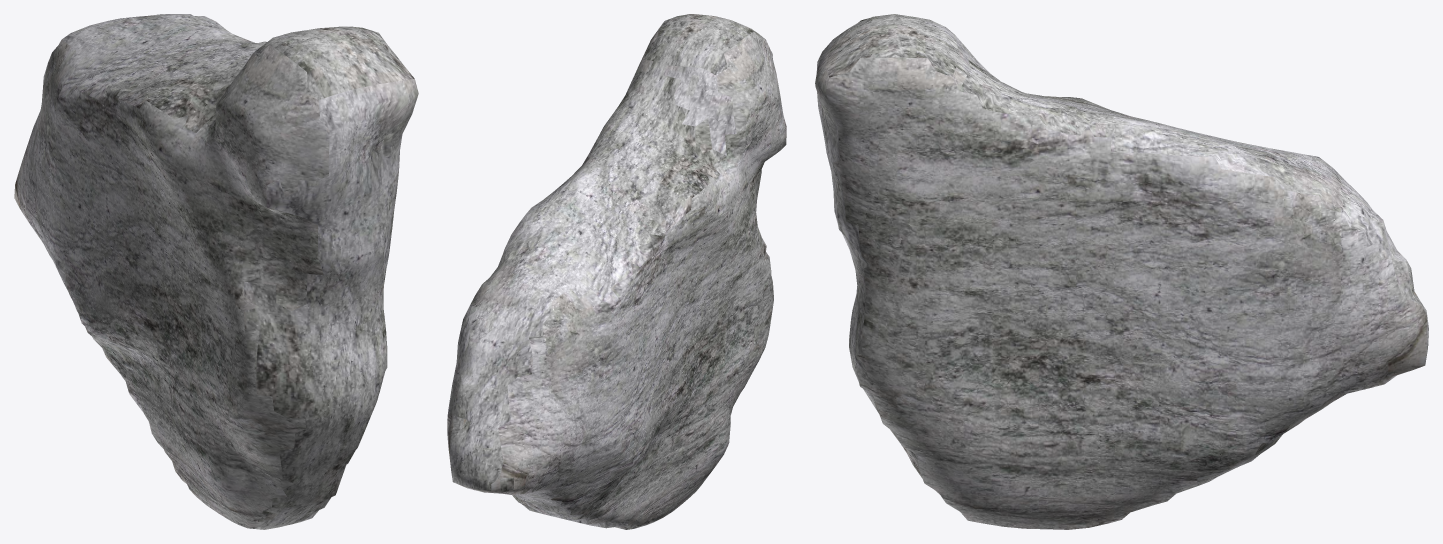
The picture shows the model from 3 angles, left to right: view 1: azimuth 30°, elevation 25°; view 2: azimuth 150°, elevation 25°; view 3: azimuth 270°, elevation 25°; orthographic projection. The views are drawn at different scales.
Visible parts, largest first — view 1: IMG_5614; view 2: IMG_5614; view 3: IMG_5614.
Part boxes in pixels (box(x1,y1,x2,y2)): IMG_5614: box(14, 14, 418, 529); IMG_5614: box(447, 14, 786, 529); IMG_5614: box(815, 14, 1428, 529).
Bounding box in the file's own units: 0.8239 × 2.76 × 3.07.
1 material, 1 textured.
